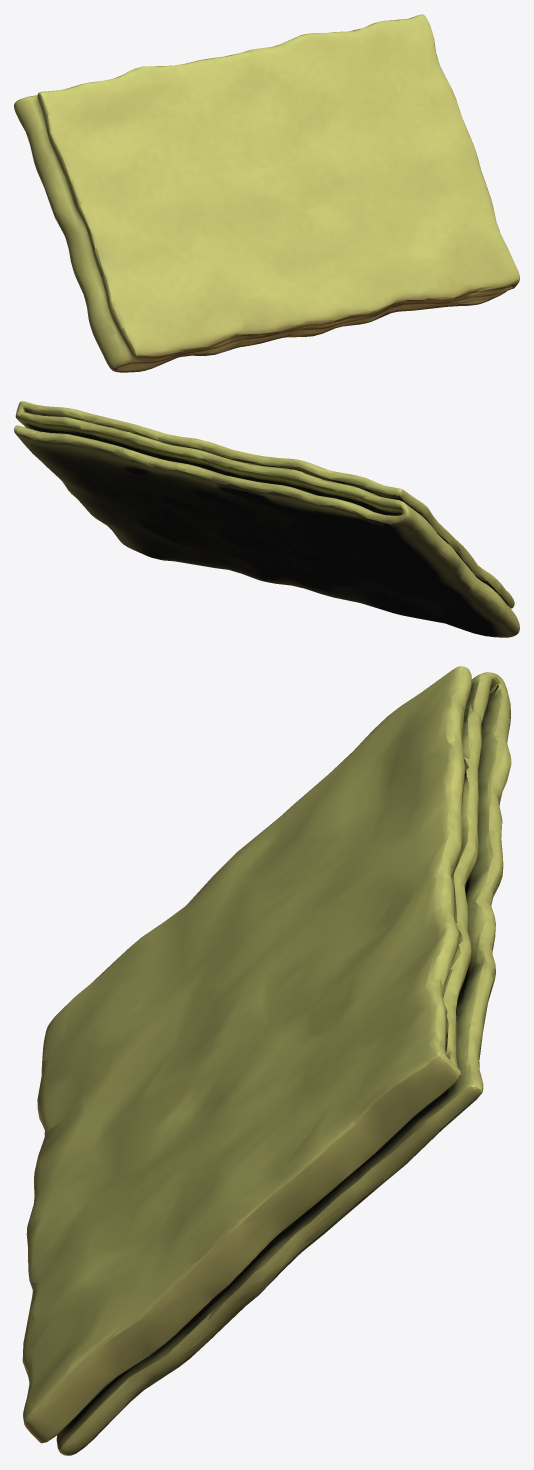
File: table_gown.fbx
3 views of the same model, one above another, from view 1: azimuth 30°, elevation 25°; view 2: azimuth 150°, elevation 25°; view 3: azimuth 270°, elevation 25° (orthographic). The views are drawn at different scales.
Visible parts, largest first — view 1: Tray_gown; view 2: Tray_gown; view 3: Tray_gown.
Boxes of the visible parts, <box> form: Tray_gown: <box>14,14,519,372</box>; Tray_gown: <box>14,401,519,637</box>; Tray_gown: <box>22,666,511,1455</box>.
Bounding box in the file's own units: 8.52 × 4.5 × 4.44.
Materials: 1 (1 with a texture image).
